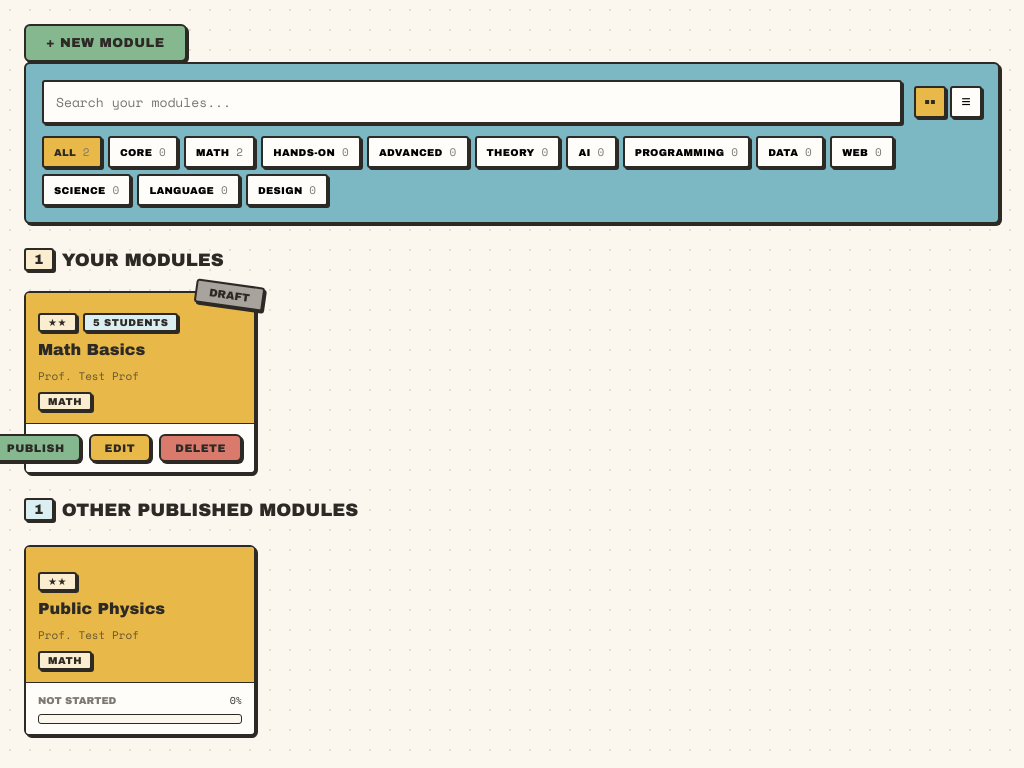
Scenario: ProfessorModules › clicking DELETE shows the confirm dialog
Expected: the text "Math Basics" is shown, top-left (38, 341), bottom-right (145, 358)
Click the button "DELETE" at (201, 448), box top-left (159, 434), bottom-right (242, 462)
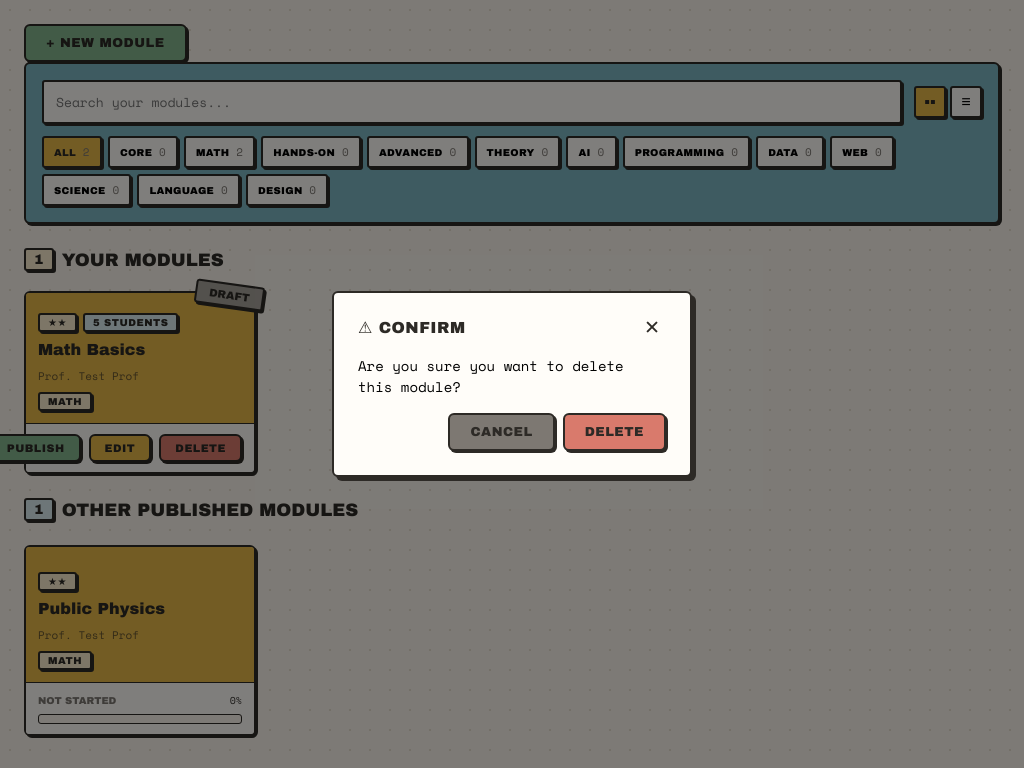
Expected: the text "Are you sure you want to delete this module?" is shown, top-left (358, 355), bottom-right (666, 397)
Expected: the button "CANCEL" is shown, top-left (448, 413), bottom-right (555, 451)
